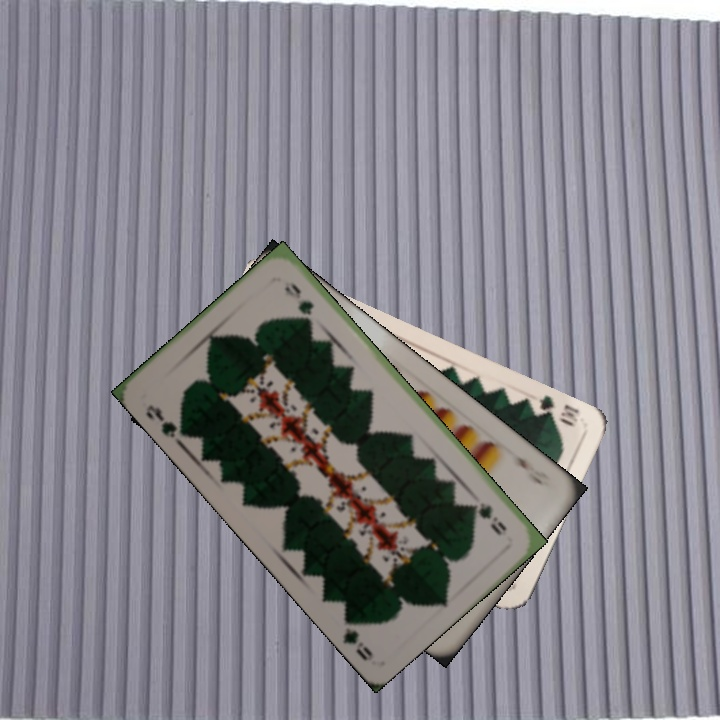E9: (507, 446, 554, 490)
G10: (526, 391, 583, 429)
G9: (141, 400, 189, 440), (466, 498, 510, 538)
